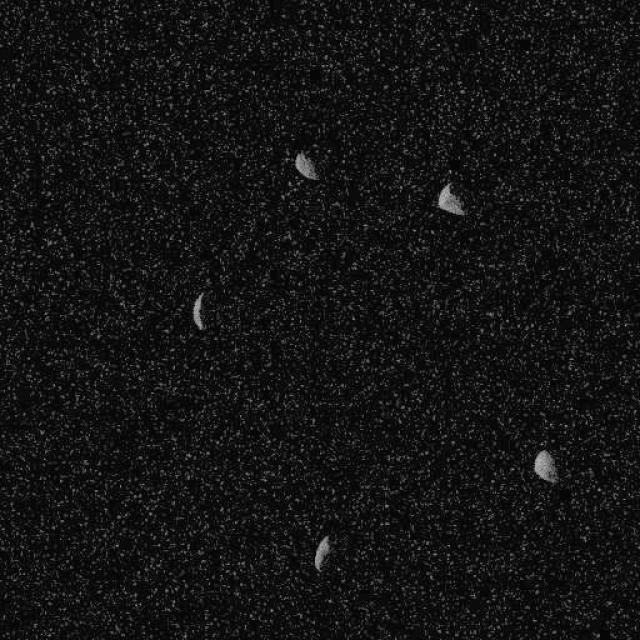D2: (435, 182, 465, 216), (532, 448, 558, 483), (294, 149, 318, 180), (313, 534, 332, 571), (192, 291, 206, 330)
